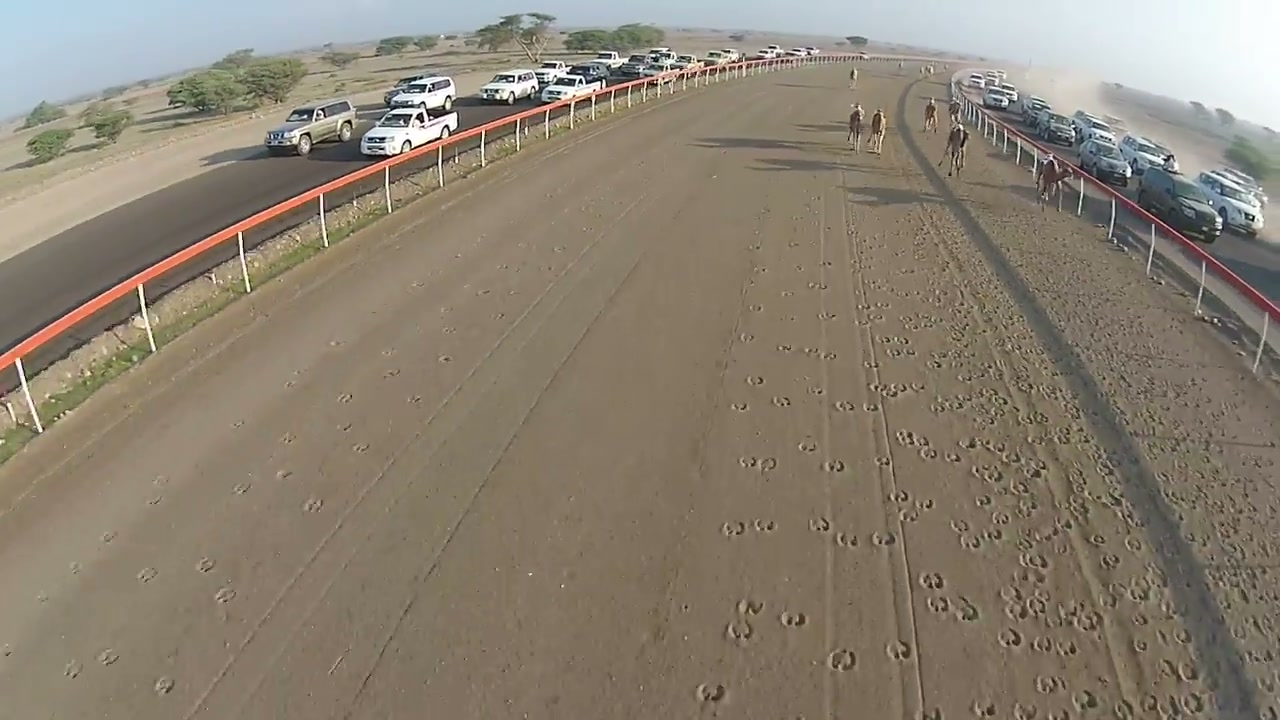animal_footprint: (873, 283, 1116, 719), (935, 386, 1014, 427), (959, 437, 1046, 468), (1115, 692, 1208, 719), (725, 599, 763, 646), (931, 395, 985, 421), (1041, 499, 1076, 538), (721, 518, 776, 537), (1094, 450, 1127, 481), (1006, 596, 1046, 621), (897, 313, 943, 332), (868, 383, 924, 398), (1162, 660, 1200, 682), (1027, 428, 1074, 445), (928, 350, 973, 367), (1071, 610, 1102, 634), (726, 618, 753, 645), (1178, 691, 1208, 715), (954, 596, 980, 622), (971, 464, 1004, 484), (1072, 689, 1099, 712), (695, 683, 726, 703), (828, 649, 856, 671), (739, 456, 777, 472), (1034, 675, 1065, 694), (895, 430, 929, 446), (1013, 498, 1038, 519), (997, 627, 1022, 648), (1019, 552, 1048, 570), (970, 699, 997, 718), (1111, 699, 1136, 719), (735, 599, 764, 616), (887, 640, 910, 660), (1054, 639, 1079, 657), (926, 596, 951, 614), (1016, 412, 1048, 426), (955, 372, 991, 384), (998, 585, 1025, 601), (780, 611, 807, 627), (919, 572, 944, 589), (1097, 591, 1120, 609), (834, 532, 859, 548), (153, 676, 174, 695), (803, 347, 836, 359), (722, 521, 746, 537), (751, 518, 776, 533), (871, 531, 896, 546), (214, 586, 236, 603), (97, 648, 119, 665), (898, 506, 919, 523), (809, 517, 831, 533), (981, 527, 1004, 542), (960, 535, 983, 550), (851, 314, 876, 327), (929, 401, 954, 414), (286, 369, 305, 386), (999, 450, 1022, 464), (302, 496, 322, 512), (137, 567, 157, 583), (889, 489, 910, 504), (1124, 536, 1142, 553), (920, 707, 945, 719), (886, 348, 915, 358), (64, 661, 81, 678), (823, 459, 845, 472), (974, 494, 994, 508), (196, 557, 214, 572), (798, 438, 817, 452), (918, 446, 938, 459), (915, 498, 934, 511), (833, 400, 855, 411), (739, 456, 759, 468), (730, 402, 750, 413), (771, 396, 791, 407), (232, 482, 250, 494), (352, 442, 370, 454), (943, 451, 961, 463), (875, 455, 892, 467), (101, 531, 117, 543), (926, 359, 945, 369), (745, 375, 764, 385), (35, 590, 49, 603), (382, 368, 400, 378), (147, 493, 162, 505), (1149, 274, 1165, 285), (738, 332, 754, 343), (276, 469, 292, 480), (808, 281, 827, 290), (0, 644, 13, 657), (807, 386, 825, 395), (867, 313, 885, 322), (406, 394, 422, 404), (863, 402, 879, 412), (753, 265, 769, 275), (69, 561, 81, 574), (776, 343, 793, 352), (410, 280, 426, 289), (437, 354, 453, 363), (818, 312, 836, 320), (231, 419, 245, 429), (337, 393, 351, 403), (874, 301, 891, 309), (748, 303, 763, 312), (539, 264, 555, 272), (854, 304, 872, 311), (516, 241, 531, 249), (490, 312, 505, 320), (747, 243, 762, 251), (863, 361, 880, 368), (283, 379, 296, 388), (475, 289, 491, 296), (441, 326, 456, 333), (439, 306, 452, 314), (553, 245, 565, 253), (819, 260, 832, 267), (783, 715, 805, 719), (787, 240, 799, 247), (794, 264, 804, 271), (452, 253, 462, 258), (497, 264, 508, 268)
